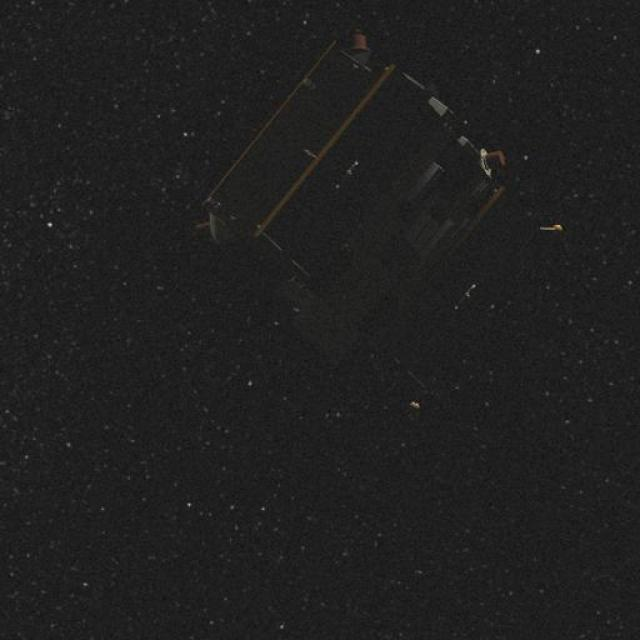proba_2: (211, 14, 530, 396)
